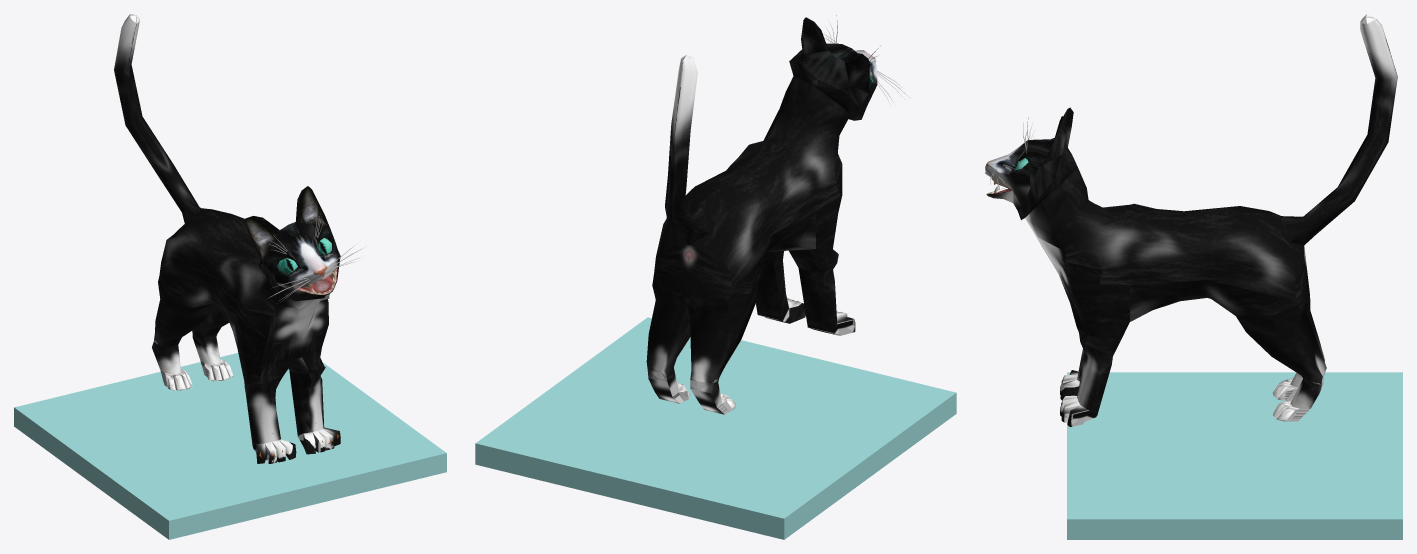
Rendered from gato.DAE.
3 views of the same model, side by side, from view 1: azimuth 30°, elevation 25°; view 2: azimuth 150°, elevation 25°; view 3: azimuth 270°, elevation 25° (orthographic). The views are drawn at different scales.
Parts seen in each view (by area): view 1: Box002, Box01; view 2: Box002, Box01; view 3: Box002, Box01.
Boxes of the visible parts, <box> form: Box002: <box>14,353,446,539</box>; Box01: <box>114,14,340,463</box>; Box002: <box>475,317,956,539</box>; Box01: <box>646,17,877,414</box>; Box002: <box>1067,372,1402,539</box>; Box01: <box>985,14,1397,426</box>.
Bounding box in the file's own units: 134 × 161 × 183.
4 materials, 2 textured.
